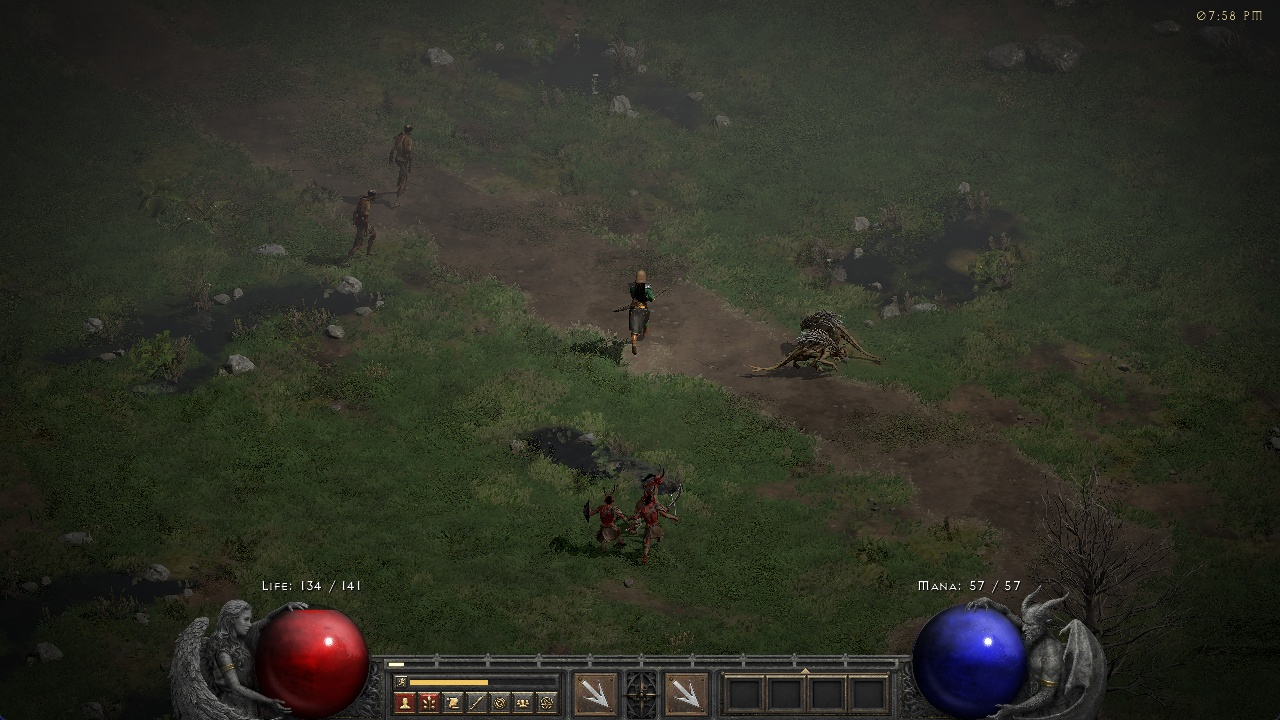fallen: (581, 493, 633, 552), (642, 495, 671, 551), (639, 466, 673, 489)
